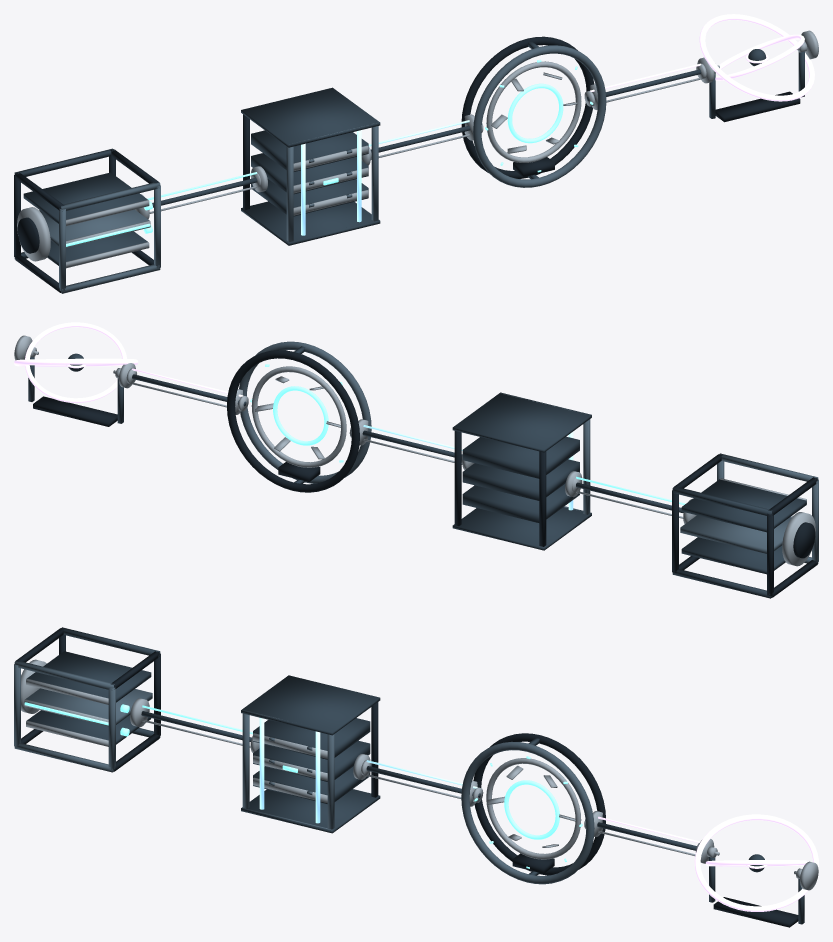
The model's file is model-pipeline.glb.
3 renders of one model, top to bottom at view 1: azimuth 30°, elevation 25°; view 2: azimuth 150°, elevation 25°; view 3: azimuth 330°, elevation 25°, orthographic.
Parts seen in each view (by area): view 1: inf_frame_cap_top, cal_outer_ring_front, inf_frame_cap_bottom, val_data_strata_upper, cal_outer_ring_rear, inf_compute_blade_01, cal_concentric_mid_collar, res_signal_ring_primary_violet, inf_compute_blade_02, inf_compute_blade_03, val_data_strata_center, val_data_strata_lower (+21 smaller); view 2: inf_frame_cap_top, cal_outer_ring_rear, val_data_strata_upper, inf_frame_cap_bottom, inf_compute_blade_01, cal_outer_ring_front, inf_compute_blade_02, inf_compute_blade_03, val_data_strata_center, val_data_strata_lower, cal_concentric_mid_collar, res_signal_ring_secondary_violet (+17 smaller); view 3: inf_frame_cap_top, cal_outer_ring_front, inf_frame_cap_bottom, val_data_strata_upper, cal_outer_ring_rear, inf_compute_blade_01, res_signal_ring_primary_violet, cal_concentric_mid_collar, val_data_strata_center, inf_compute_blade_02, inf_compute_blade_03, val_data_strata_lower (+18 smaller).
Boxes of the visible parts, box(x1,y1,x2,y2) form: inf_frame_cap_top: box(241, 87, 380, 147); cal_outer_ring_front: box(473, 45, 606, 187); inf_frame_cap_bottom: box(241, 201, 380, 245); val_data_strata_upper: box(23, 172, 147, 223); cal_outer_ring_rear: box(461, 36, 594, 178); inf_compute_blade_01: box(251, 130, 368, 171); cal_concentric_mid_collar: box(486, 61, 581, 162); res_signal_ring_primary_violet: box(699, 14, 814, 101); inf_compute_blade_02: box(251, 153, 368, 194); inf_compute_blade_03: box(251, 179, 368, 216); val_data_strata_center: box(39, 209, 149, 246); val_data_strata_lower: box(47, 231, 147, 265); inf_frame_cap_top: box(452, 392, 591, 452); cal_outer_ring_rear: box(227, 350, 359, 492); val_data_strata_upper: box(681, 479, 806, 532); inf_frame_cap_bottom: box(452, 506, 591, 550); inf_compute_blade_01: box(462, 436, 579, 478); cal_outer_ring_front: box(239, 341, 371, 483); inf_compute_blade_02: box(462, 459, 579, 500); inf_compute_blade_03: box(462, 483, 579, 522); val_data_strata_center: box(680, 515, 791, 553); val_data_strata_lower: box(681, 537, 785, 574); cal_concentric_mid_collar: box(251, 366, 346, 467); res_signal_ring_secondary_violet: box(25, 322, 126, 402); inf_frame_cap_top: box(241, 675, 380, 735); cal_outer_ring_front: box(461, 741, 594, 884); inf_frame_cap_bottom: box(241, 789, 380, 833); val_data_strata_upper: box(27, 651, 151, 702); cal_outer_ring_rear: box(473, 733, 605, 875); inf_compute_blade_01: box(253, 718, 370, 759); res_signal_ring_primary_violet: box(694, 814, 818, 911); cal_concentric_mid_collar: box(486, 758, 581, 859); val_data_strata_center: box(25, 688, 152, 724); inf_compute_blade_02: box(253, 740, 370, 781); inf_compute_blade_03: box(253, 766, 370, 803); val_data_strata_lower: box(27, 710, 151, 744).
Size of the model in its own units: 14.07 by 2.37 by 1.8.
